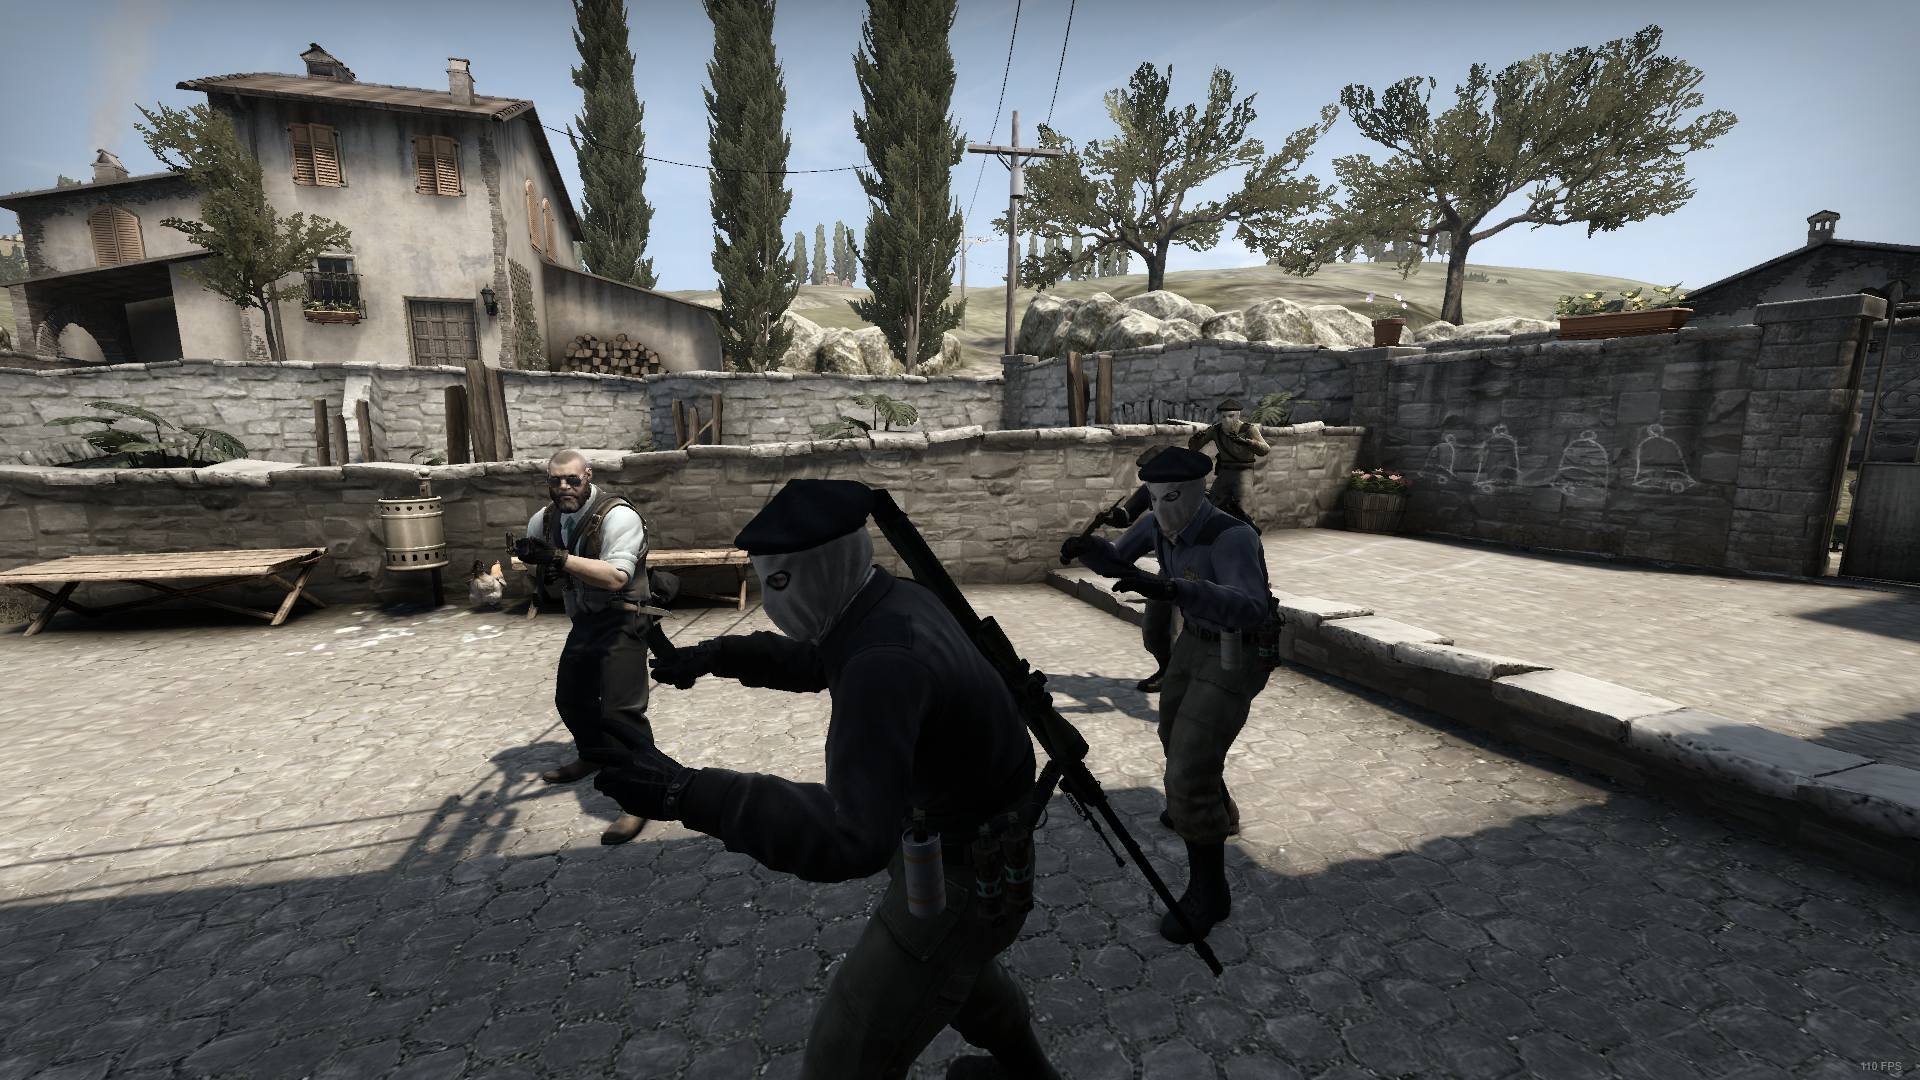t: (591, 481, 1055, 1080), (1064, 444, 1280, 943), (1189, 400, 1269, 537)
